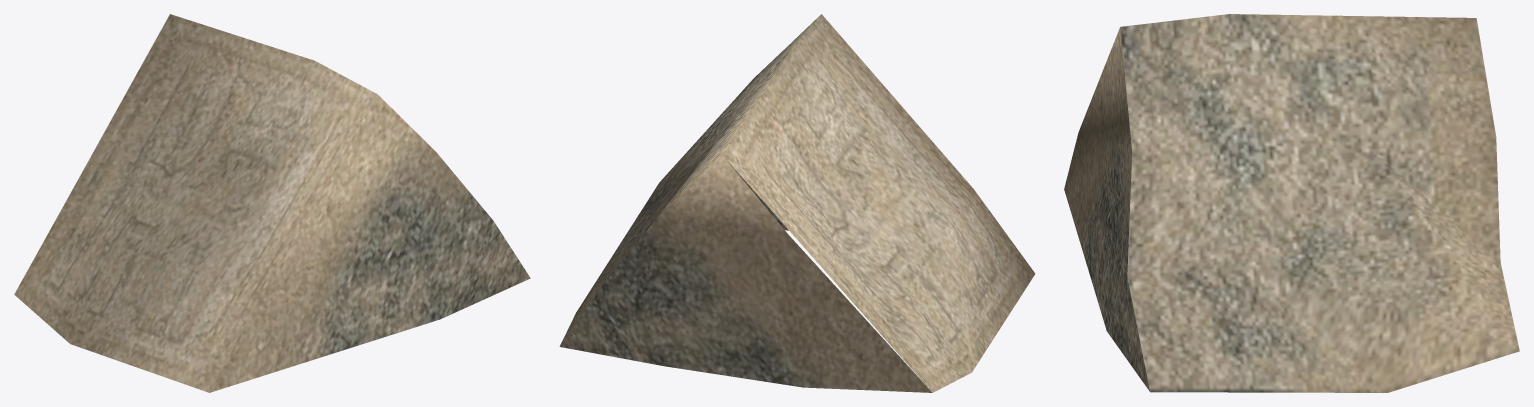
Rendered from desert-bigstone02_lod_01.fbx.
The picture shows the model from 3 angles, left to right: view 1: azimuth 30°, elevation 25°; view 2: azimuth 150°, elevation 25°; view 3: azimuth 270°, elevation 25°; orthographic projection. The views are drawn at different scales.
Parts seen in each view (by area): view 1: desert-bigstone; view 2: desert-bigstone; view 3: desert-bigstone.
Boxes of the visible parts, x1=… form: desert-bigstone: x1=14, y1=14, x2=530, y2=392; desert-bigstone: x1=559, y1=14, x2=1035, y2=392; desert-bigstone: x1=1064, y1=14, x2=1519, y2=392.
Bounding box in the file's own units: 4.5 × 2.7 × 3.79.
